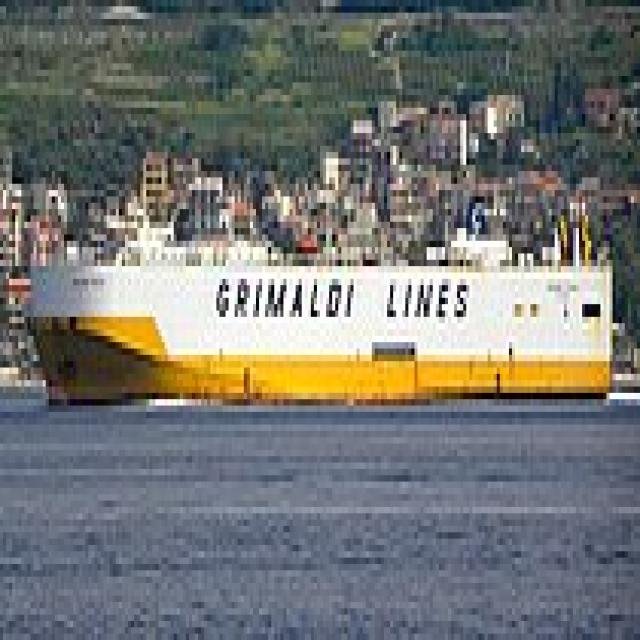Carrier: (22, 171, 610, 406)
